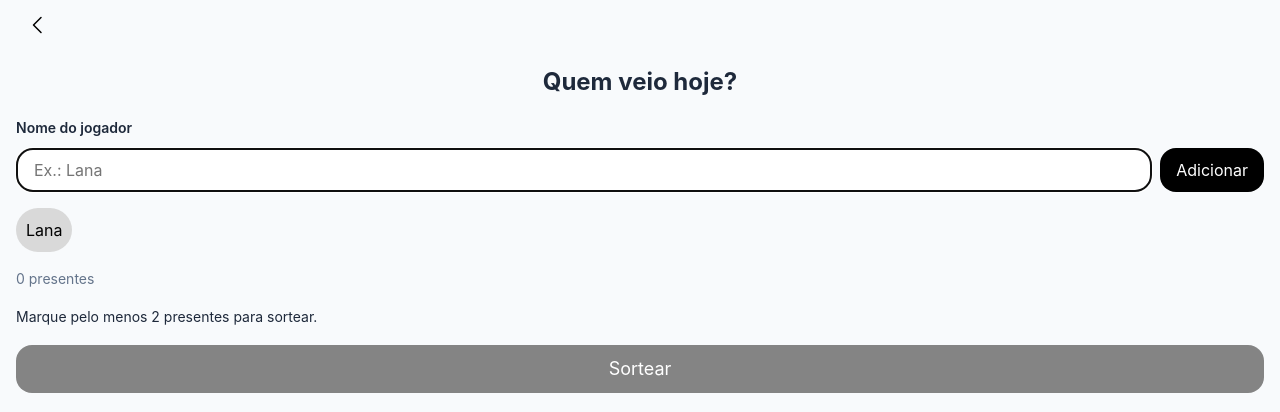
Test: RosterScreen — comportamento (US1.2) › toque no chip alterna presença com aria-pressed
This screenshot has width=1280, height=412.
Click the button "Lana": click(44, 230) [16,208,72,252]
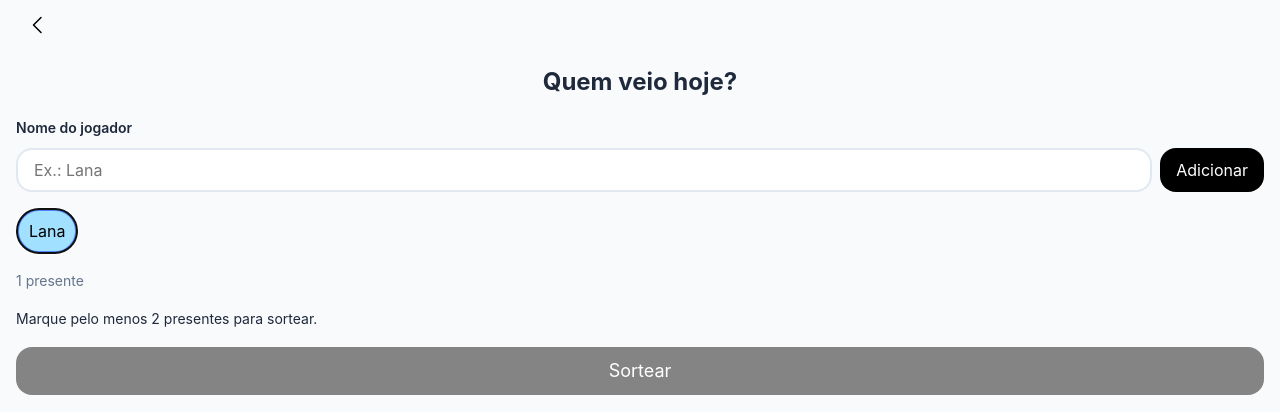
Expected: the text with test id "roster-present-count" reads "1 presente", [16,272,84,289]
